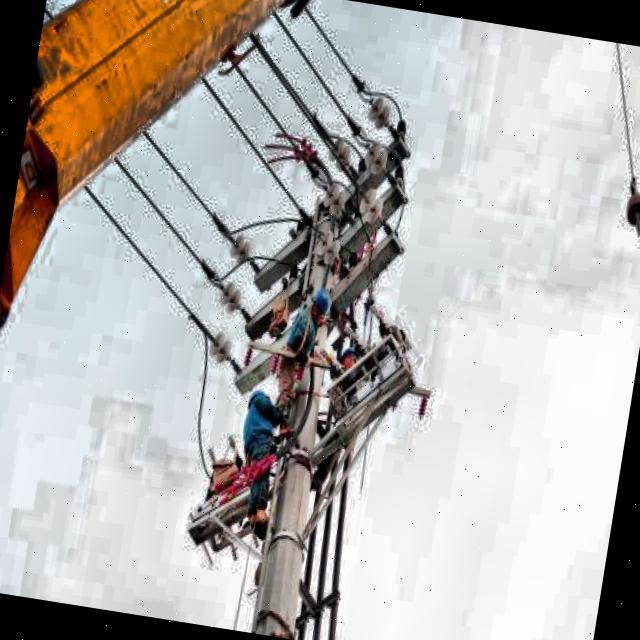helmet: (306, 284, 335, 328)
